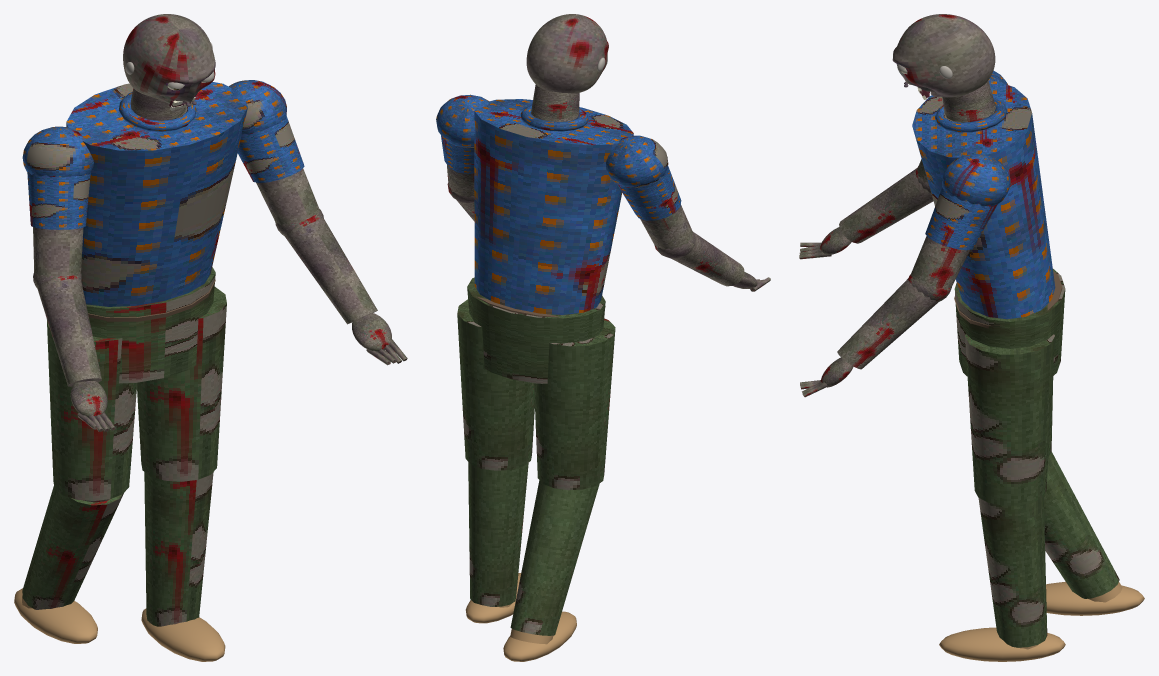
File: Zombie_032.glb
The picture shows the model from 3 angles, left to right: view 1: azimuth 30°, elevation 25°; view 2: azimuth 150°, elevation 25°; view 3: azimuth 270°, elevation 25°; orthographic projection. The views are drawn at different scales.
Visible parts, largest first — view 1: Zombie_032, object 16, object 3, object 10, object 11, object 4; view 2: Zombie_032, object 16, object 3; view 3: Zombie_032, object 16, object 10, object 3, object 11, object 4.
Part boxes in pixels (x1,y1,x2,y2): Zombie_032: (14, 80, 319, 661); object 16: (123, 14, 215, 104); object 3: (37, 278, 101, 387); object 10: (284, 217, 377, 324); object 11: (352, 313, 391, 351); object 4: (70, 381, 107, 417); Zombie_032: (436, 84, 693, 661); object 16: (526, 14, 608, 93); object 3: (671, 232, 744, 286); Zombie_032: (910, 70, 1144, 661); object 16: (892, 14, 995, 97); object 10: (837, 278, 939, 369); object 3: (839, 168, 933, 243); object 11: (820, 357, 853, 387); object 4: (820, 227, 851, 254).
Bounding box in the file's own units: 0.8221 × 1.64 × 0.8295.
Materials: 15 (5 with a texture image).
